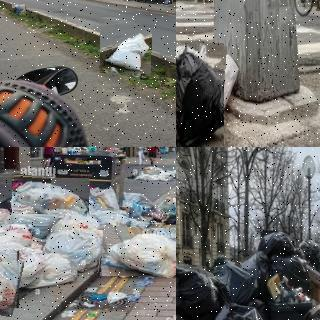Garbage: (176, 42, 225, 147), (101, 226, 176, 277), (45, 212, 105, 272), (11, 176, 90, 216), (176, 262, 230, 320), (259, 230, 310, 289), (100, 30, 151, 74), (0, 238, 46, 286), (0, 246, 21, 312), (154, 194, 176, 225), (12, 4, 26, 16)
